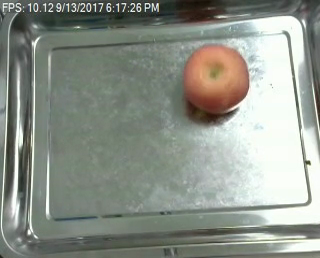Apple: (184, 43, 249, 114)
